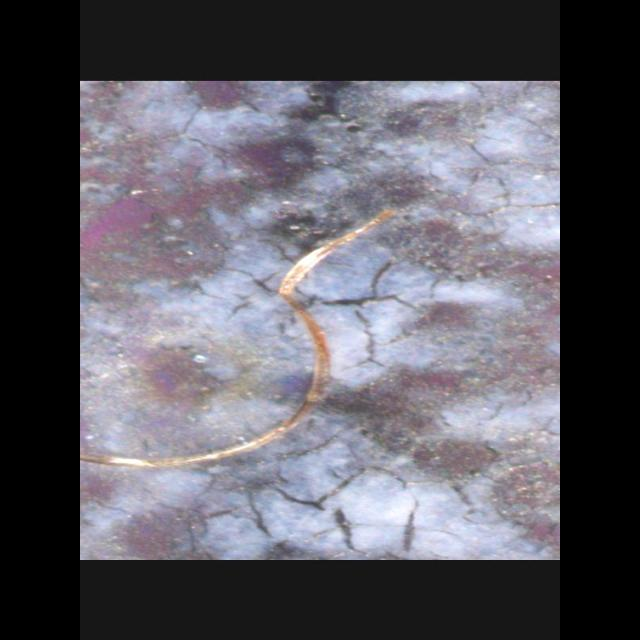Fibre: (80, 208, 400, 468)
